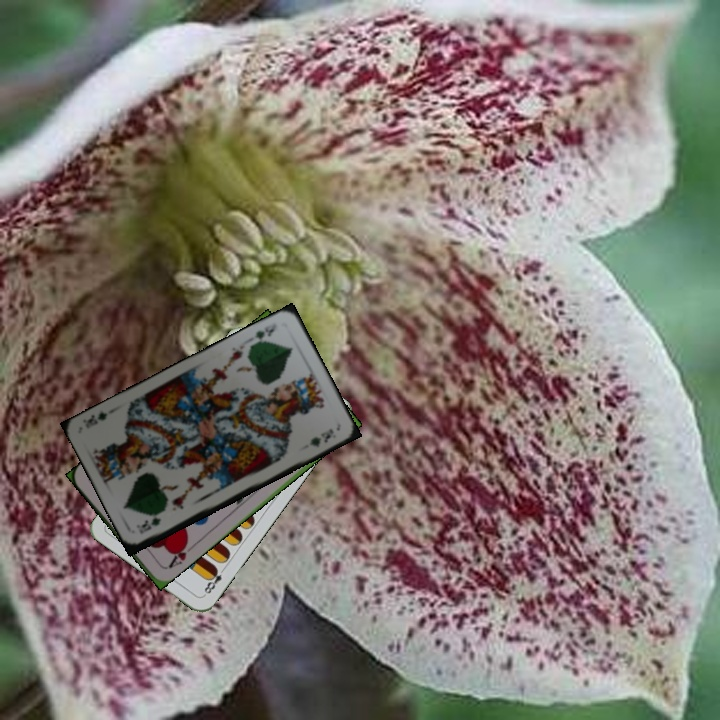E8: (199, 563, 228, 598)
GK: (250, 319, 279, 347), (133, 514, 163, 536)
HA: (162, 536, 196, 571)
